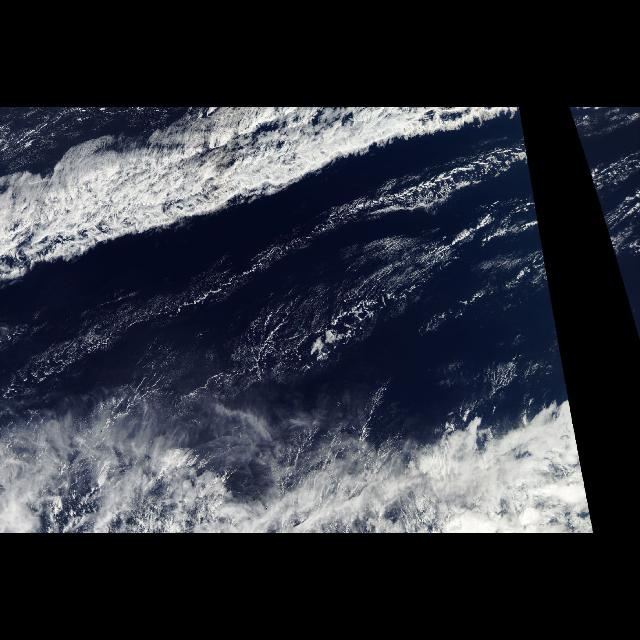Gravel: (252, 252, 433, 371), (371, 166, 504, 238)
Sugar: (49, 224, 420, 324)
